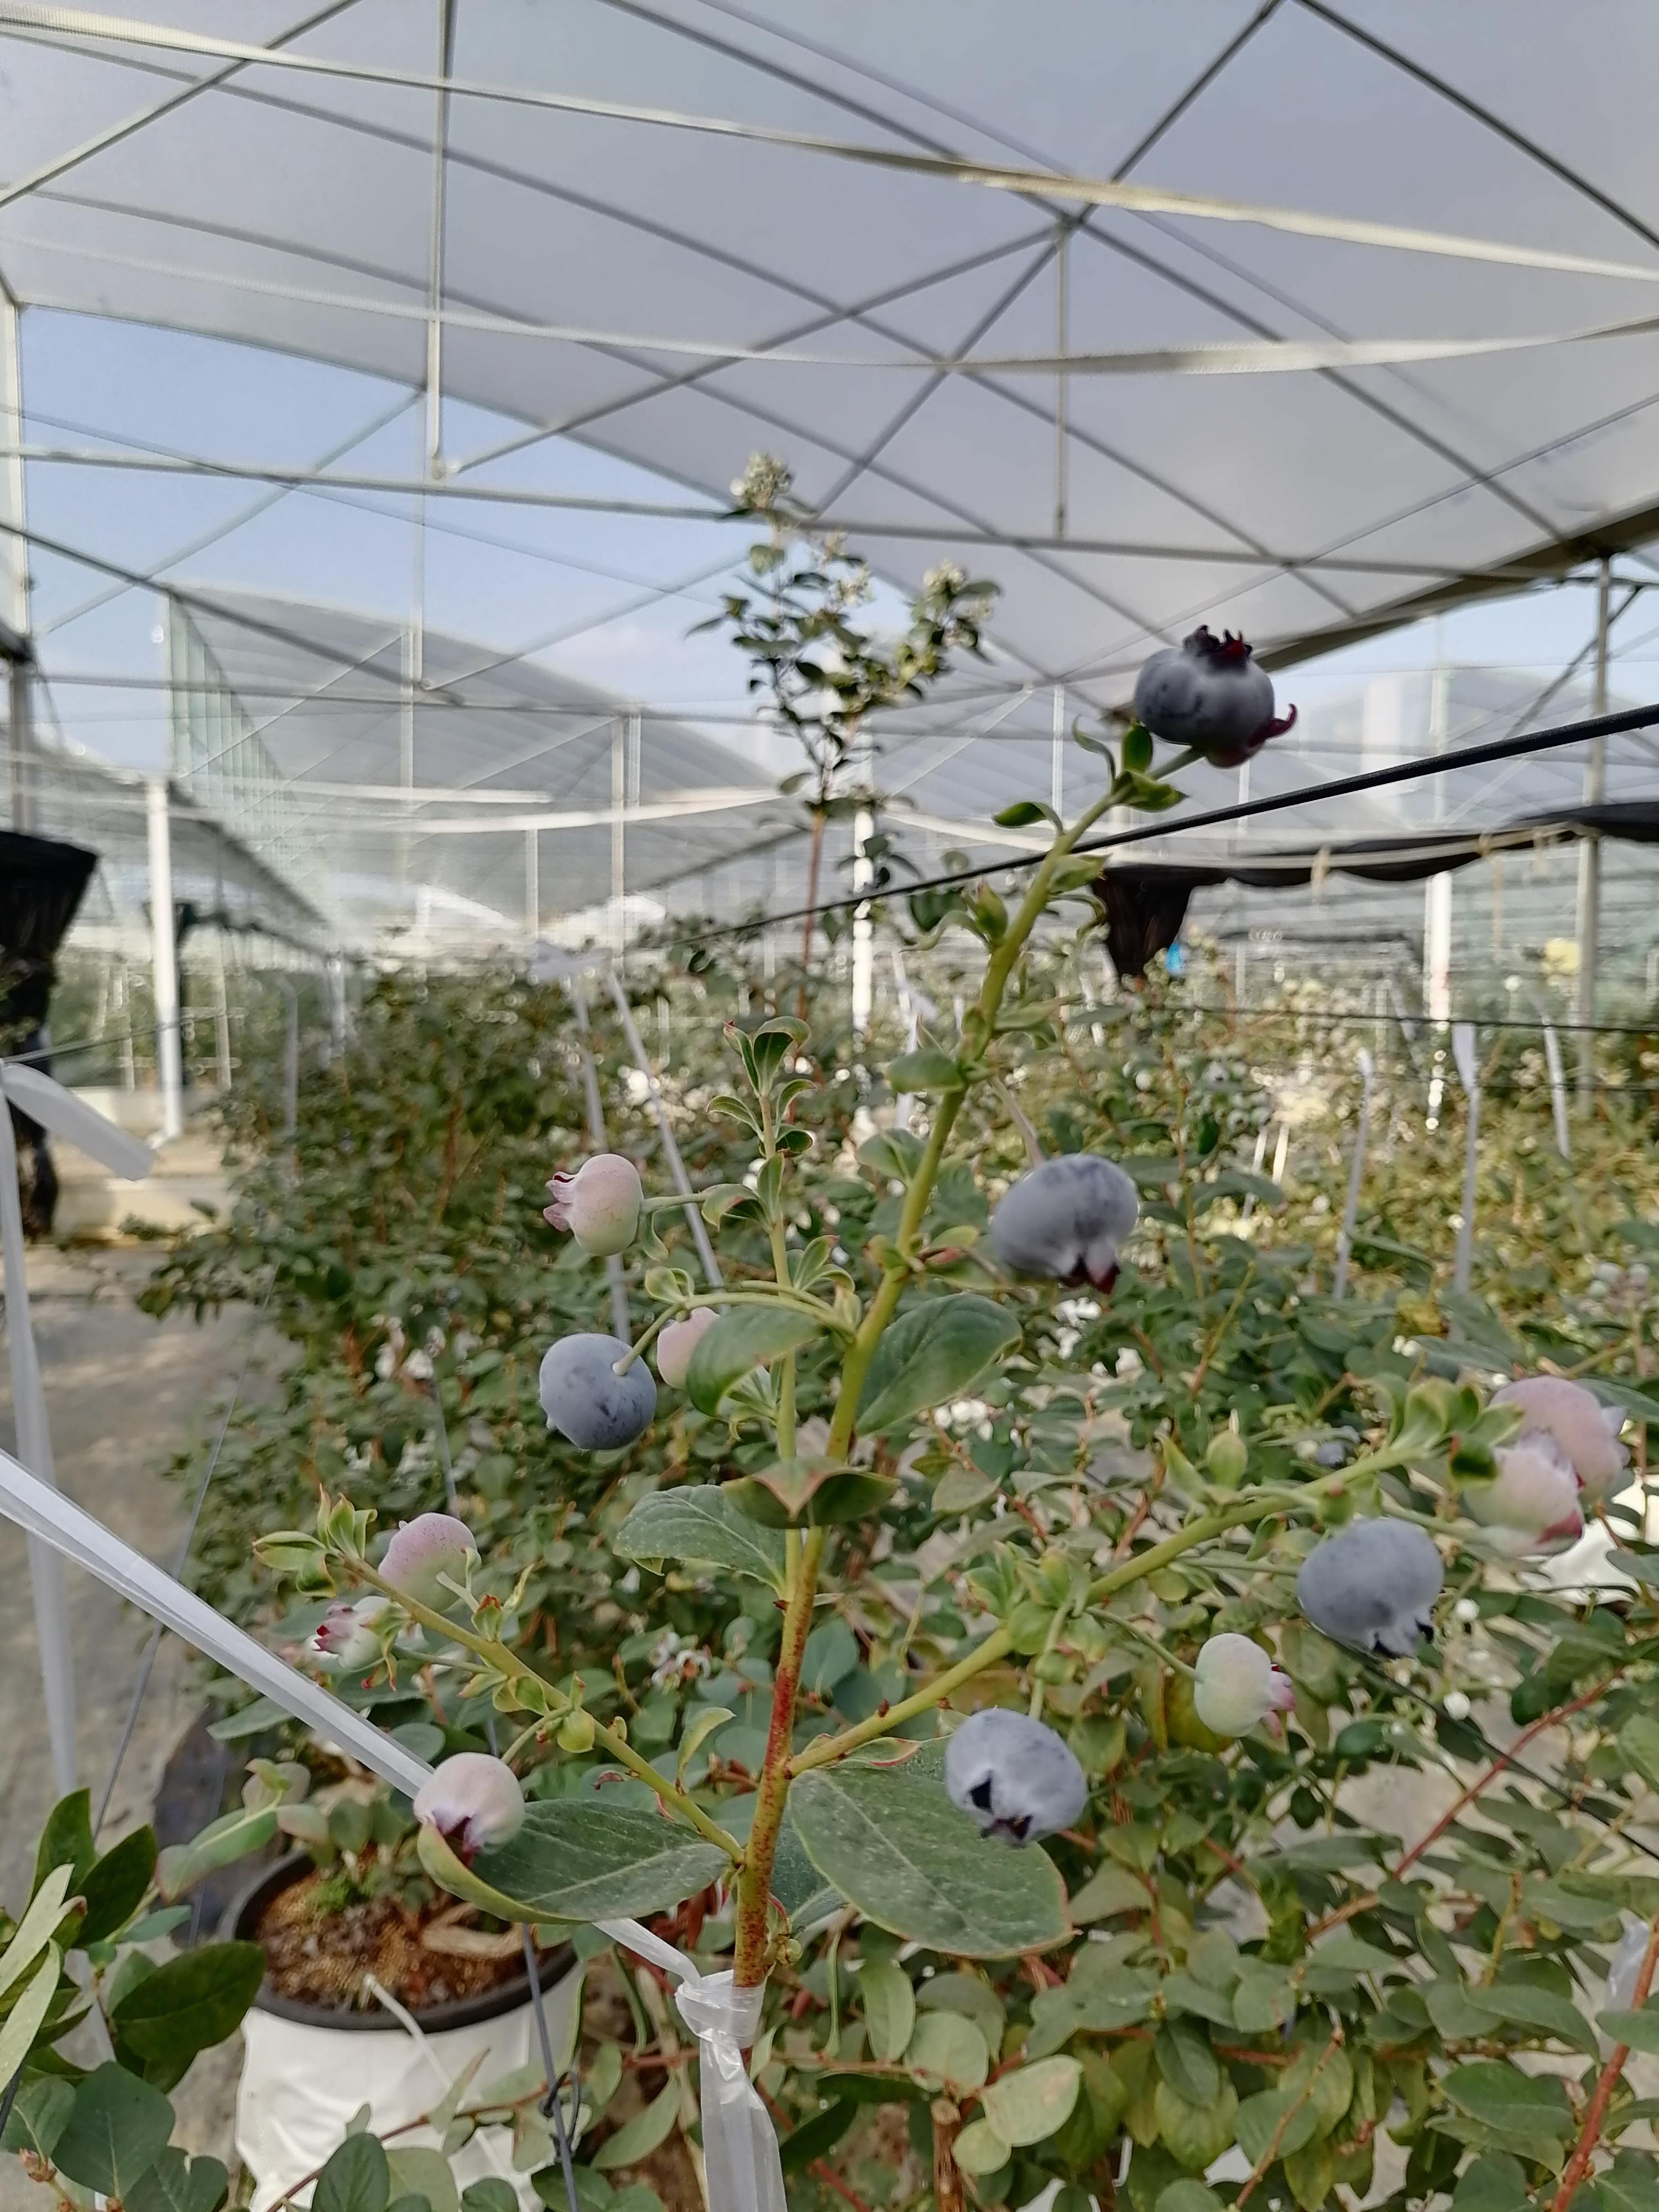ripe-blueberries: (992, 1151, 1141, 1294), (1298, 1514, 1445, 1658), (943, 1707, 1089, 1850), (1133, 622, 1277, 752), (537, 1332, 659, 1454), (1314, 1439, 1345, 1467)
